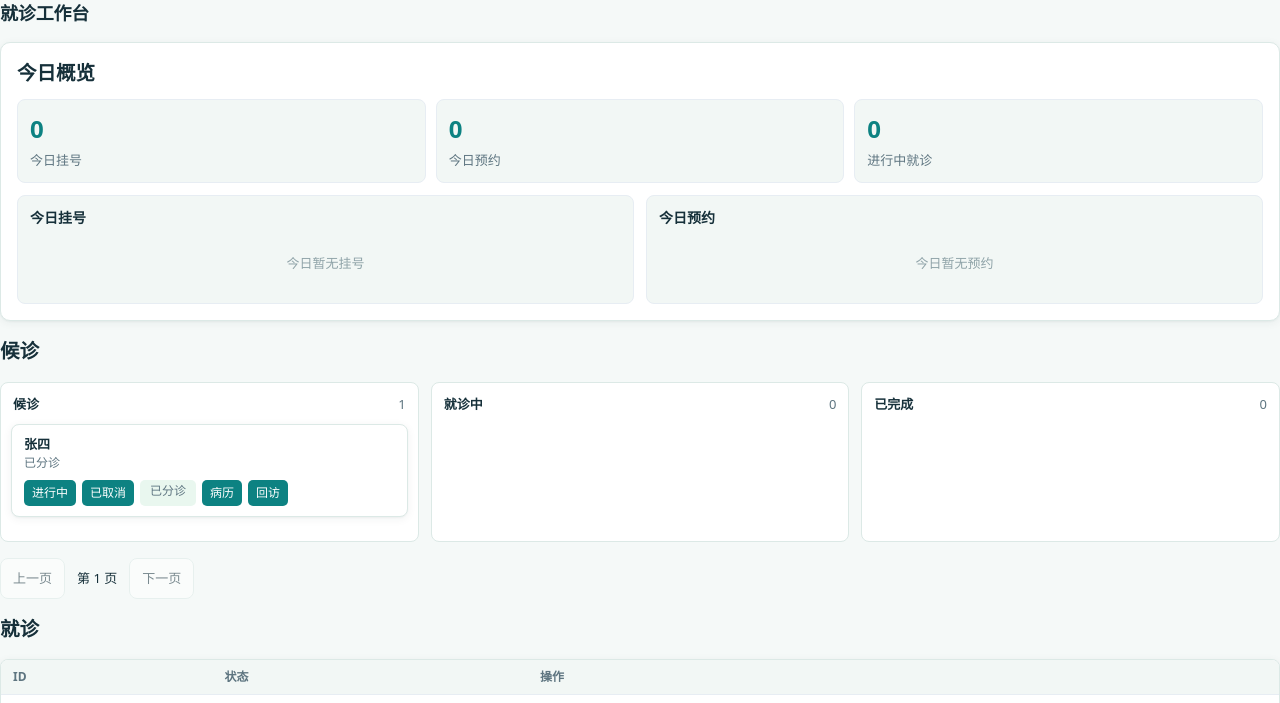
Scenario: ClinicalWorkflowPage › submits a follow-up from the triaged registration row
Click the button "回访".
click(268, 493)  # box [248,480,288,506]
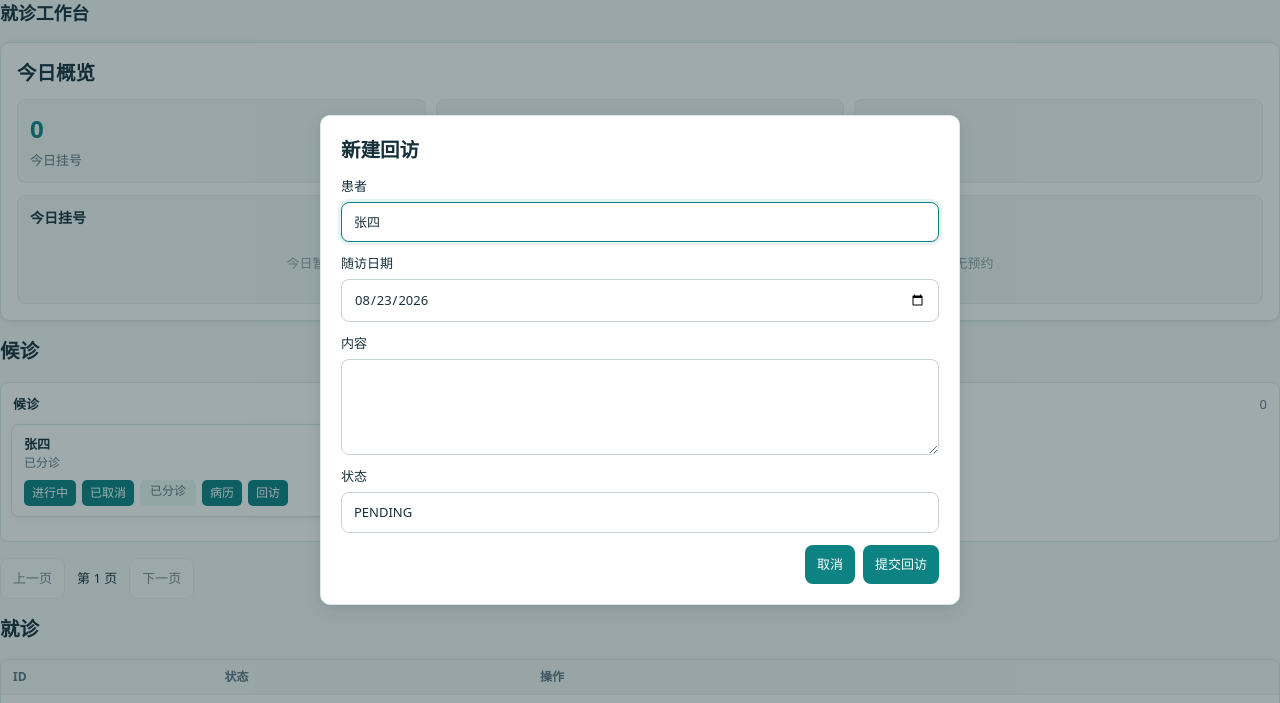
Type "2026-08-12" into the date field labelled "随访日期".
click(640, 301); type("2026-08-12")  # box [341,279,939,322]
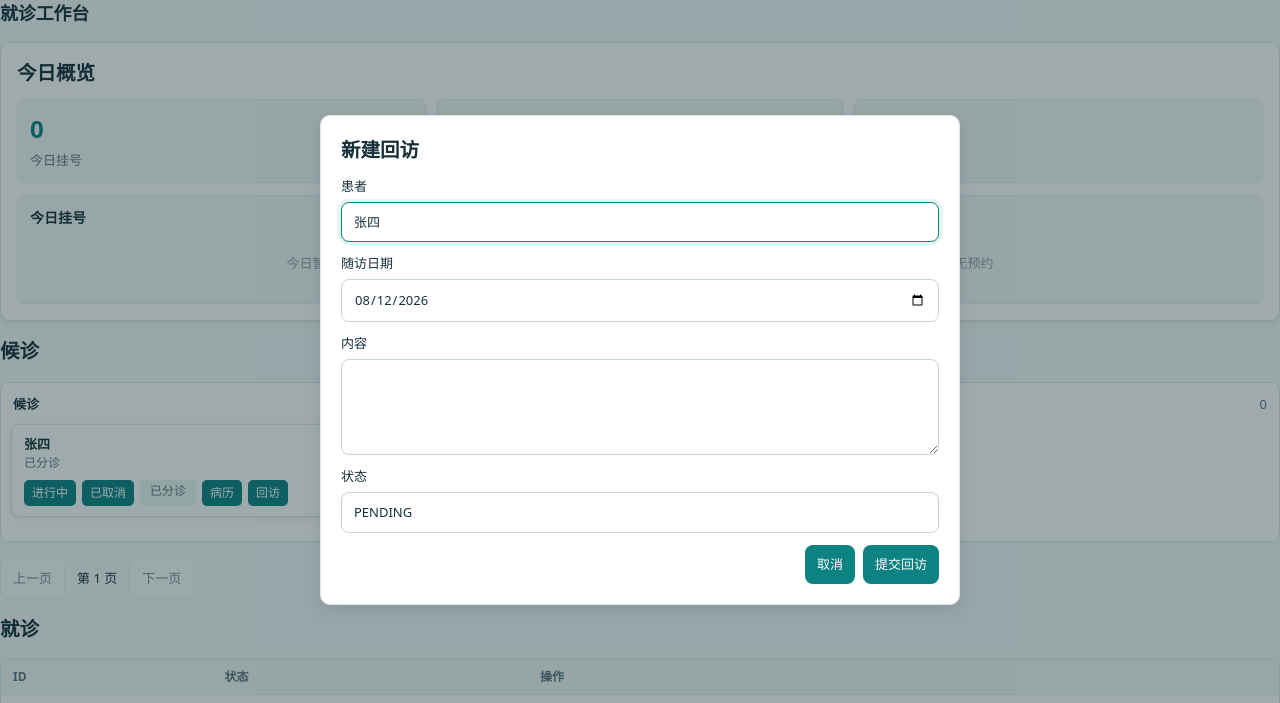
Type "术后回访" into the text box labelled "内容".
click(640, 407); type("术后回访")  # box [341,359,939,455]
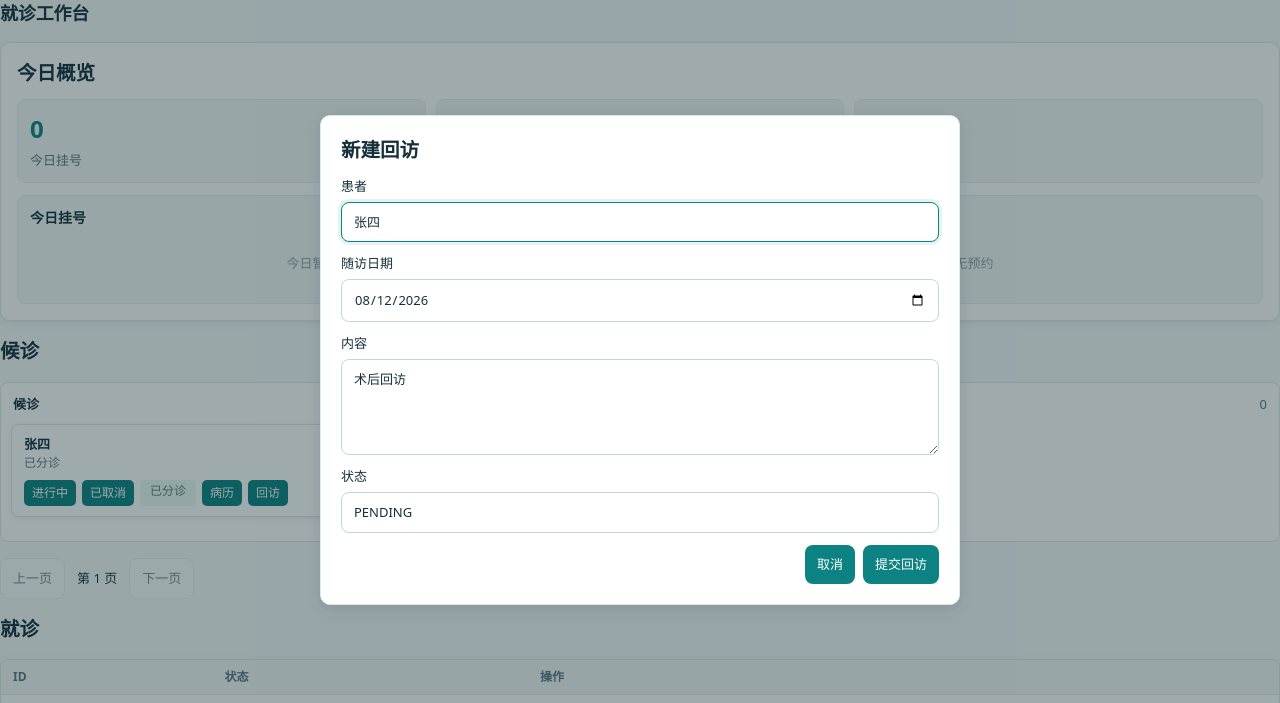
Click the button "提交回访".
click(901, 564)  # box [863,545,939,584]
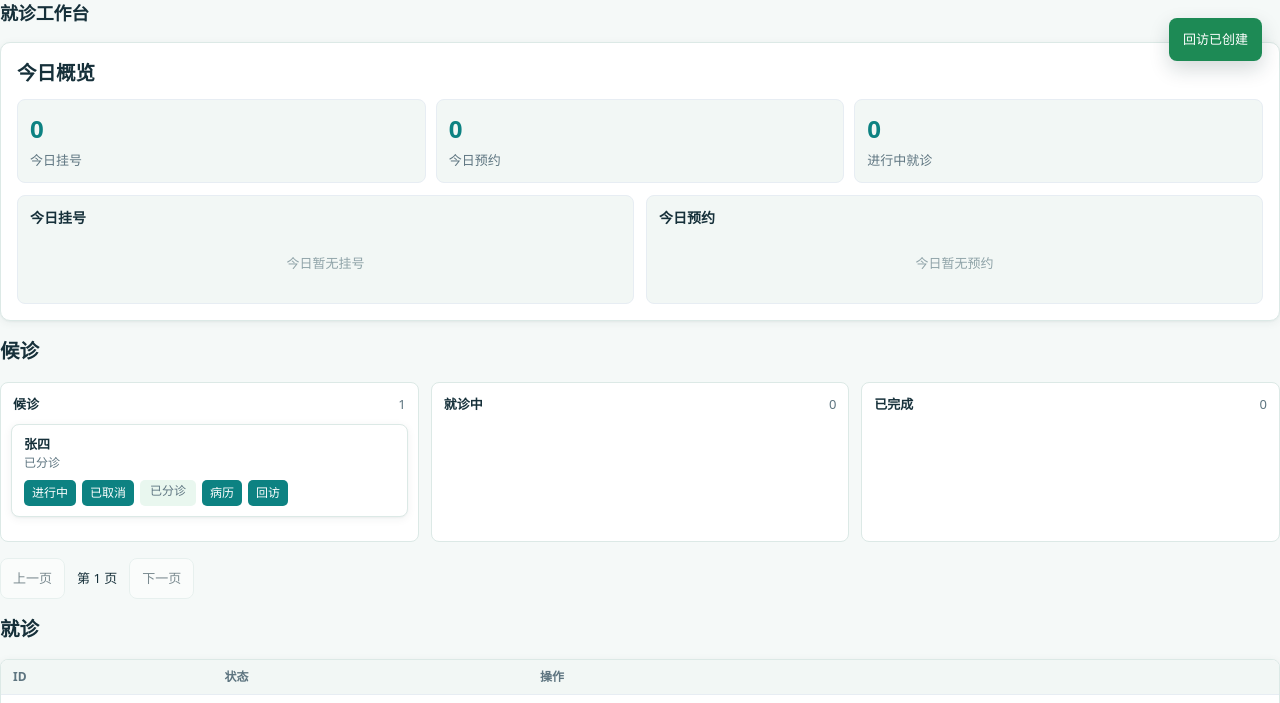
expect the text "回访已创建" is shown: met, box [1169,18,1262,61]
